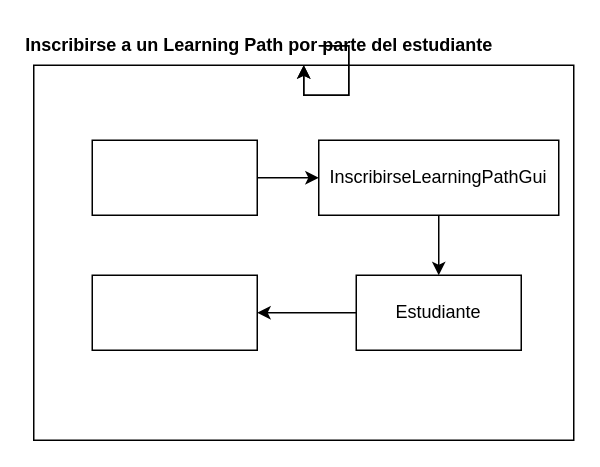
Image size: 600x467. Some labels were removed from this diagram. The shapes that lost their labels are listed below. From the top down, each one's box as (x1, y1, x2, y2) in pixels, then its label:
(91, 139, 257, 215): EstudianteGui
(91, 274, 257, 350): ArchivoPersistencia
